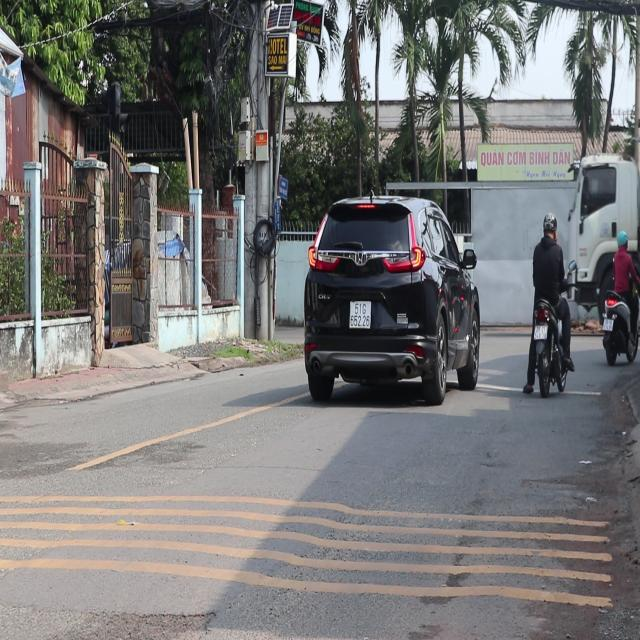helmet: (541, 210, 558, 237)
licenseplate: (523, 209, 574, 395)
nohelmet: (534, 325, 546, 338)
